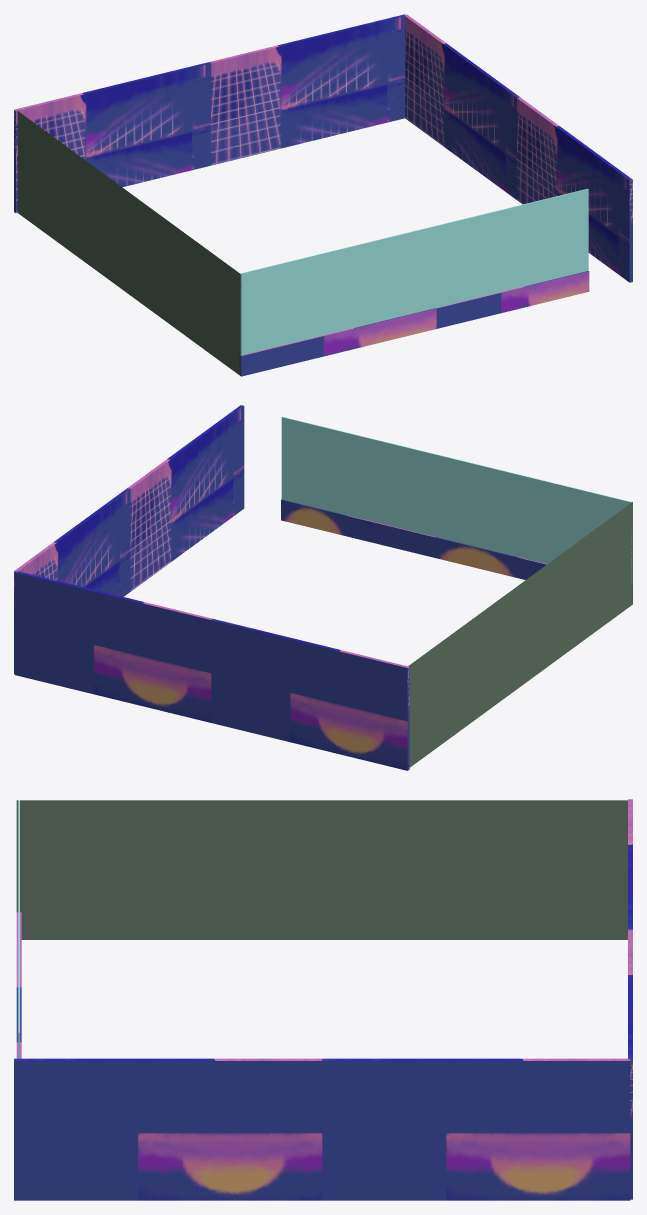
The model's file is MOD_GDDWall.fbx.
3 renders of one model, top to bottom at view 1: azimuth 30°, elevation 25°; view 2: azimuth 150°, elevation 25°; view 3: azimuth 270°, elevation 25°, orthographic. The views are drawn at different scales.
Parts seen in each view (by area): view 1: Lab_wall5, Glass_Panel, Lab_wall6, Glass_Panel1, Lab_wall4, Lab_divider, Lab_divider1, Lab_wall3, Wall_Section, Wall_Section1; view 2: Lab_wall6, Lab_wall5, Glass_Panel, Glass_Panel1, Lab_wall3, Lab_divider, Lab_divider1, Lab_wall4, Wall_Section1, Wall_Section; view 3: Lab_wall3, Lab_wall4, Lab_divider, Lab_divider1, Lab_wall5, Lab_wall6, Wall_Section.
Boxes of the visible parts, x1,y1,x2,y2 form: Lab_wall5: (210,14,405,165); Glass_Panel: (240,226,435,355); Lab_wall6: (14,62,211,212); Glass_Panel1: (436,188,588,307); Lab_wall4: (404,14,519,199); Lab_divider: (128,192,241,375); Lab_divider1: (17,111,128,293); Lab_wall3: (517,97,632,282); Wall_Section: (239,308,436,376); Wall_Section1: (436,271,589,328); Lab_wall6: (211,619,409,770); Lab_wall5: (14,571,212,722); Glass_Panel: (435,454,631,583); Glass_Panel1: (281,416,435,536); Lab_wall3: (128,405,244,591); Lab_divider: (519,502,632,686); Lab_divider1: (408,585,519,767); Lab_wall4: (14,488,130,673); Wall_Section1: (281,499,434,557); Wall_Section: (434,537,632,603); Lab_wall3: (14,1058,322,1200); Lab_wall4: (322,1058,630,1200); Lab_divider: (16,800,324,939); Lab_divider1: (324,800,627,939); Lab_wall5: (628,929,632,1199); Lab_wall6: (628,799,632,929); Wall_Section: (16,912,21,1042).
Size of the model in its own units: 1205 by 300 by 1205.
